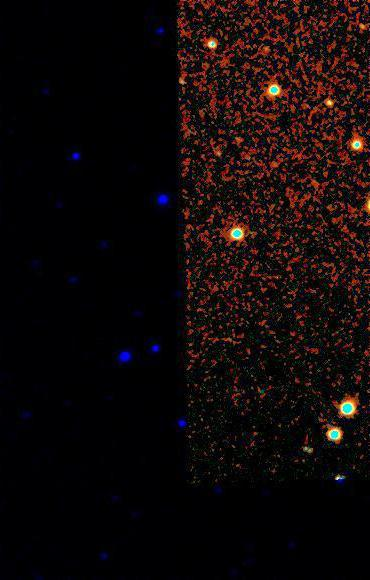star: (256, 33, 286, 63)
